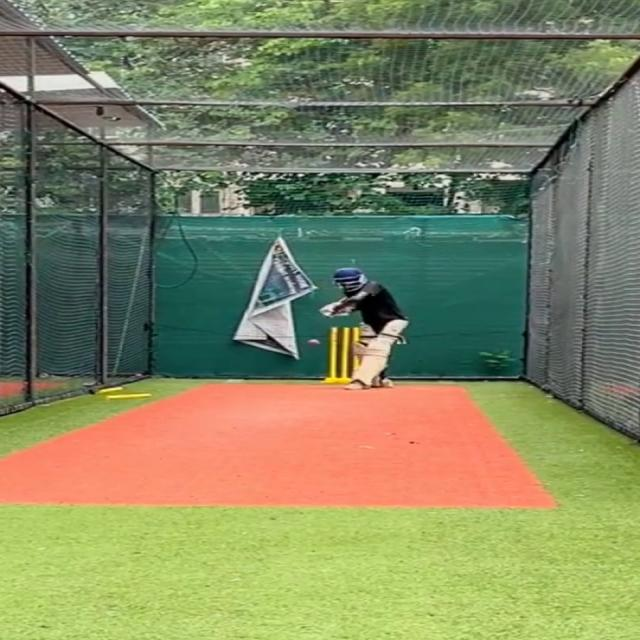ball: (306, 338, 321, 347)
stump: (325, 324, 360, 384)
